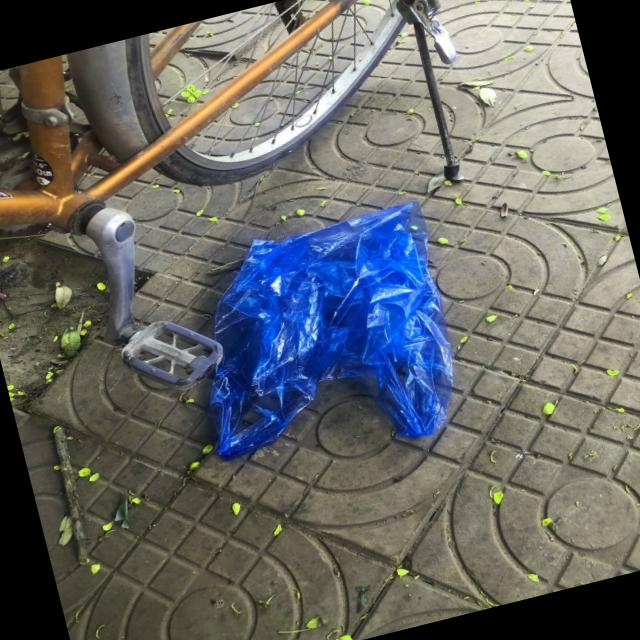less trash: (209, 201, 453, 460)
